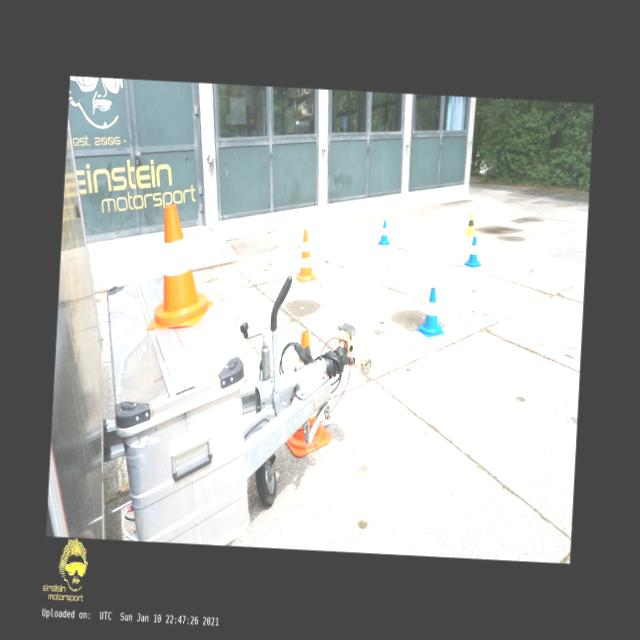blue_cone: (417, 288, 448, 338), (464, 236, 484, 268), (378, 221, 391, 246)
large_orange_cone: (284, 330, 336, 459), (295, 229, 319, 283)
orange_cone: (146, 202, 219, 334)
yellow_cone: (465, 212, 477, 236)
